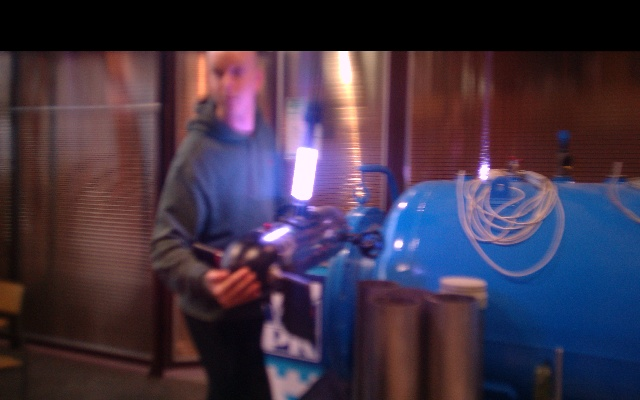white: (291, 146, 318, 201)
